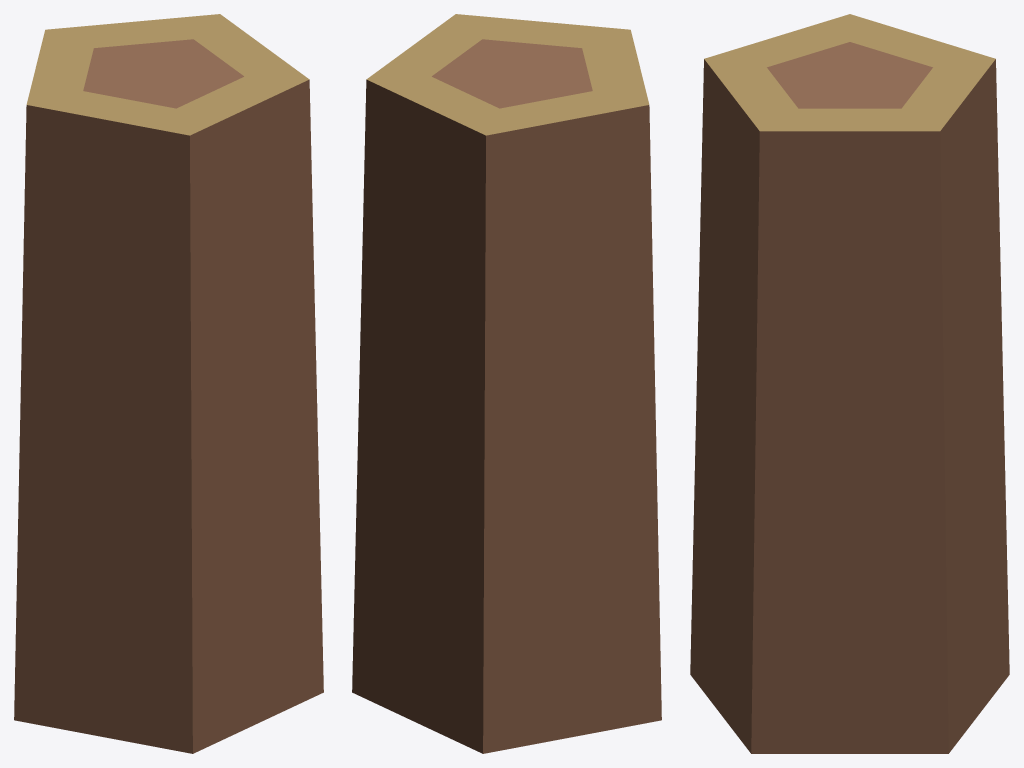
The model's file is TB_Env_Trunk_Long_C.FBX.
The picture shows the model from 3 angles, left to right: view 1: azimuth 30°, elevation 25°; view 2: azimuth 150°, elevation 25°; view 3: azimuth 270°, elevation 25°; orthographic projection.
Visible parts, largest first — view 1: TB_Env_Trunk_Long_C; view 2: TB_Env_Trunk_Long_C; view 3: TB_Env_Trunk_Long_C.
Boxes of the visible parts, x1,y1,x2,y2 form: TB_Env_Trunk_Long_C: [14, 14, 323, 753]; TB_Env_Trunk_Long_C: [352, 14, 661, 753]; TB_Env_Trunk_Long_C: [690, 14, 1009, 753].
Size of the model in its own units: 0.7256 by 1.63 by 0.7629.
